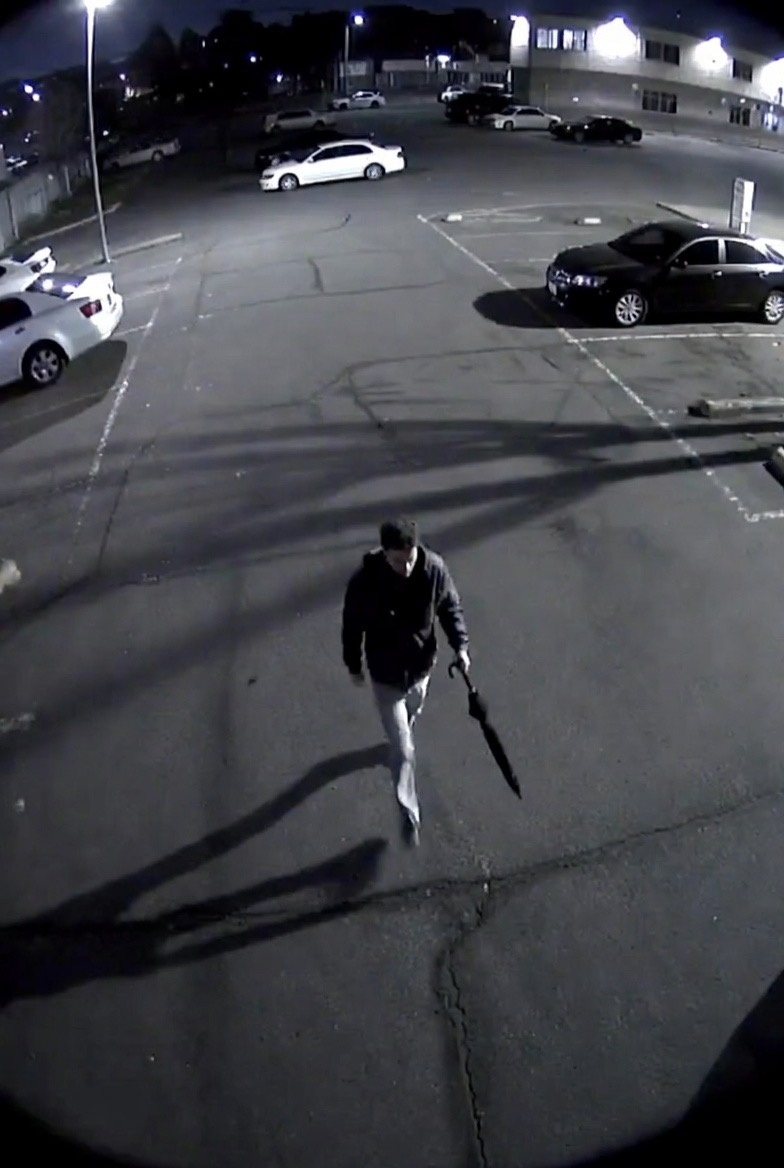person: (339, 518, 447, 862)
umbrella: (447, 650, 536, 819)
